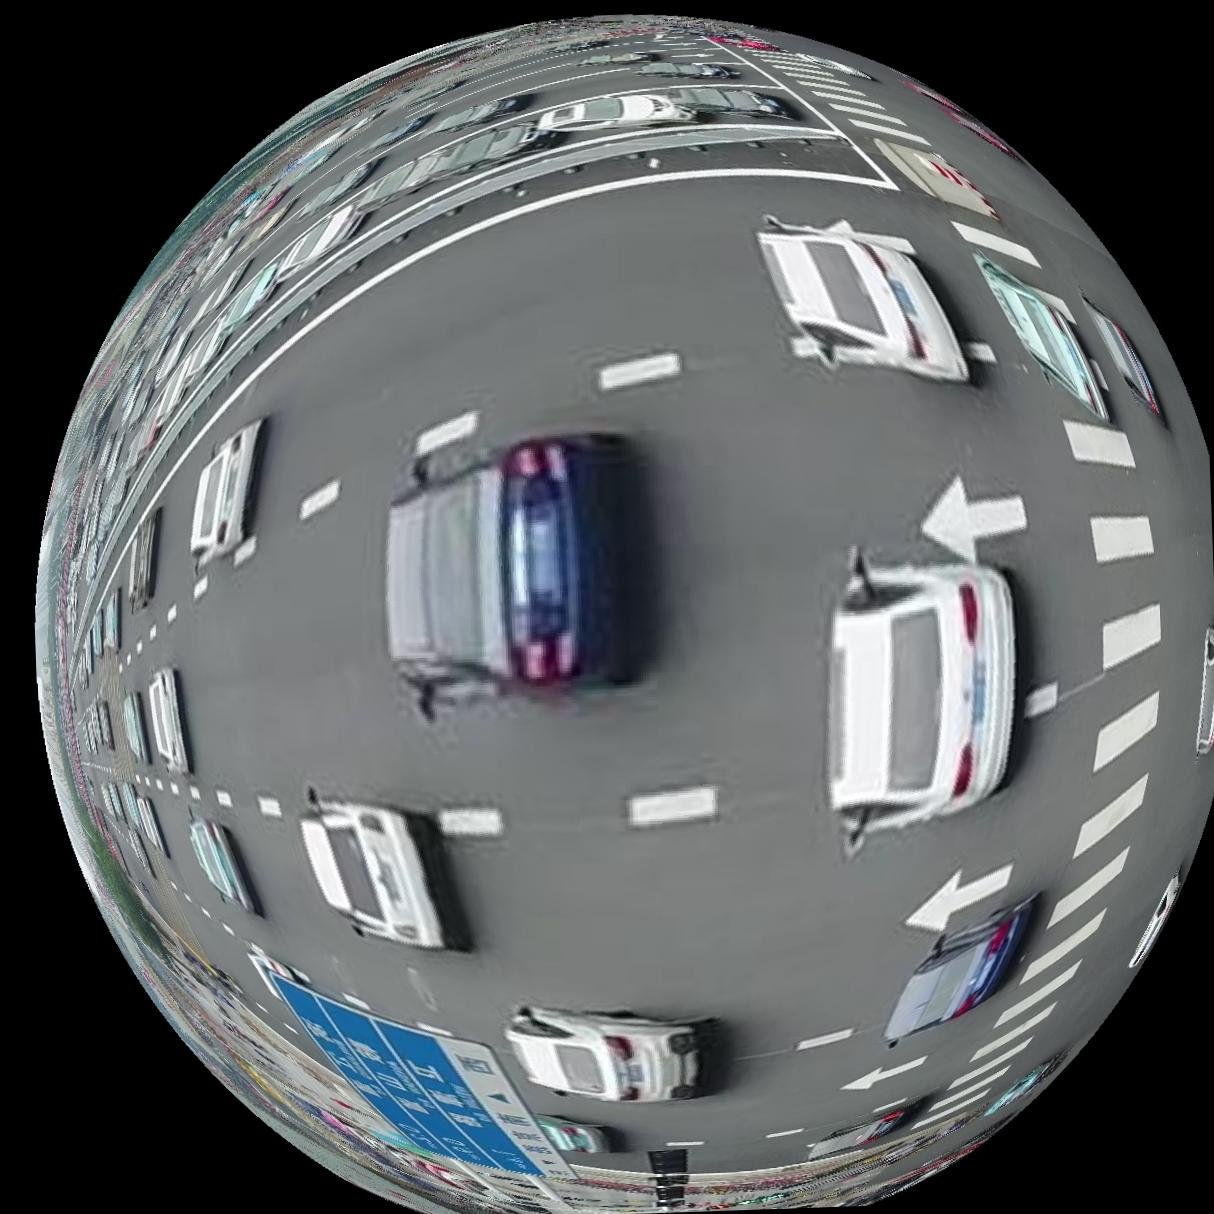cars: (384, 430, 635, 716), (828, 548, 1017, 856), (885, 894, 1038, 1042), (975, 251, 1111, 418), (300, 803, 446, 948), (505, 1007, 716, 1104), (1085, 295, 1167, 426), (189, 418, 262, 565), (409, 119, 561, 183), (808, 1099, 925, 1161), (188, 819, 257, 914), (538, 89, 695, 128), (1133, 874, 1184, 969), (147, 666, 190, 775), (351, 158, 425, 213), (670, 84, 796, 116), (434, 90, 530, 128), (126, 506, 159, 608), (120, 690, 149, 763), (1198, 627, 1214, 755)
